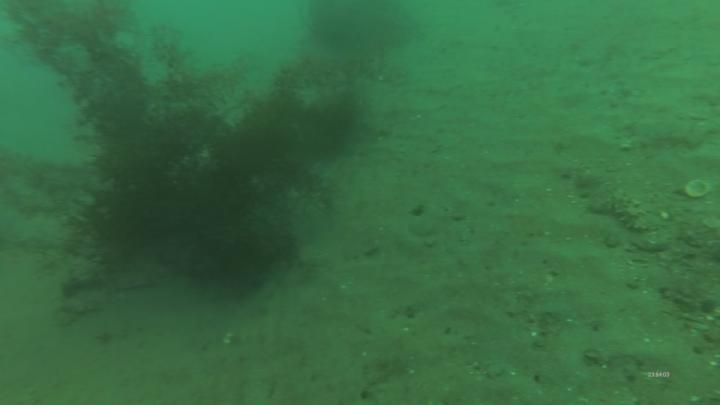holothurian: (604, 187, 650, 235)
waterweeds: (1, 1, 371, 295)
